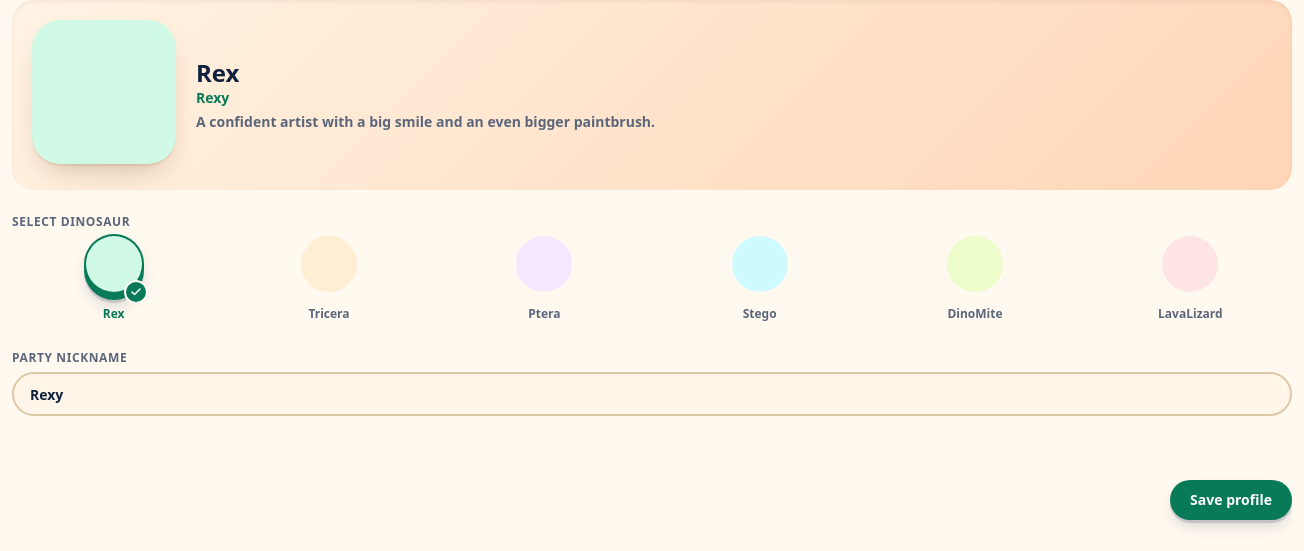
Test: GuestProfileForm › updates an existing guest with PATCH and keeps the token
Replace the text in the field labelled "Party nickname" with "Renamed" at (652, 394), box [12, 372, 1292, 416]
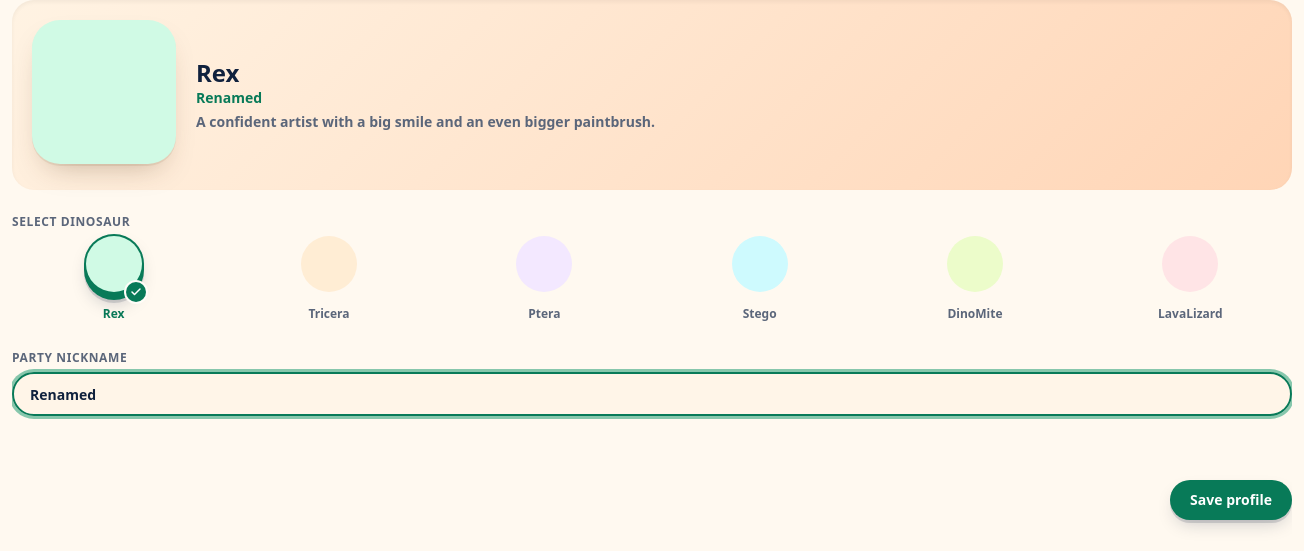
Click the button "Save profile" at (1231, 500), box [1170, 480, 1292, 520]
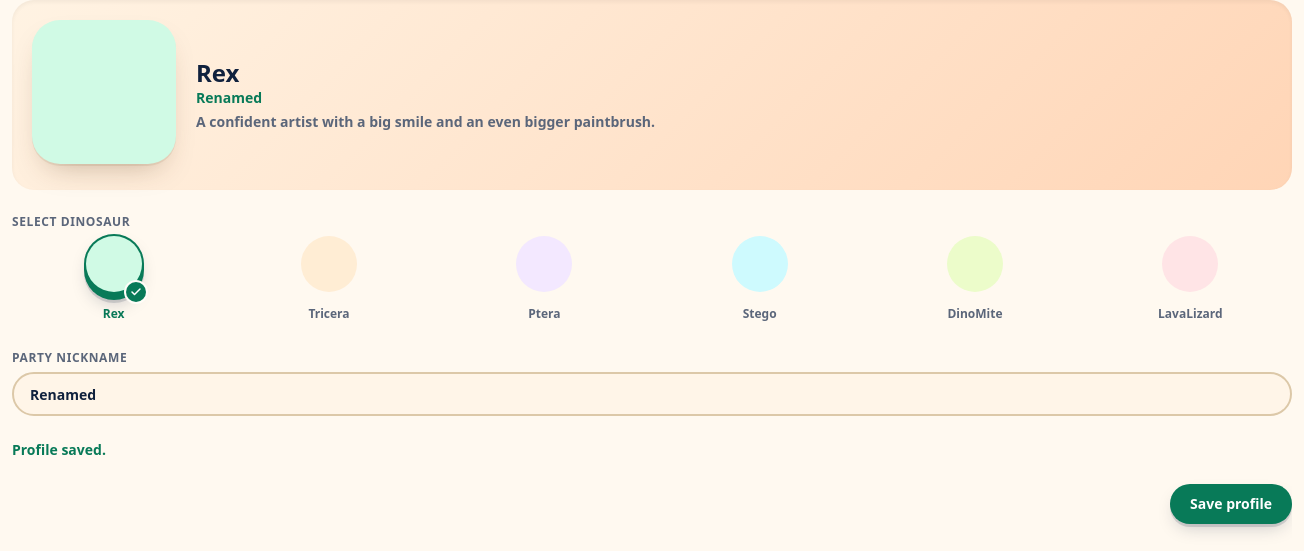
expect the text "Profile saved." is shown: met, box [12, 440, 106, 459]
